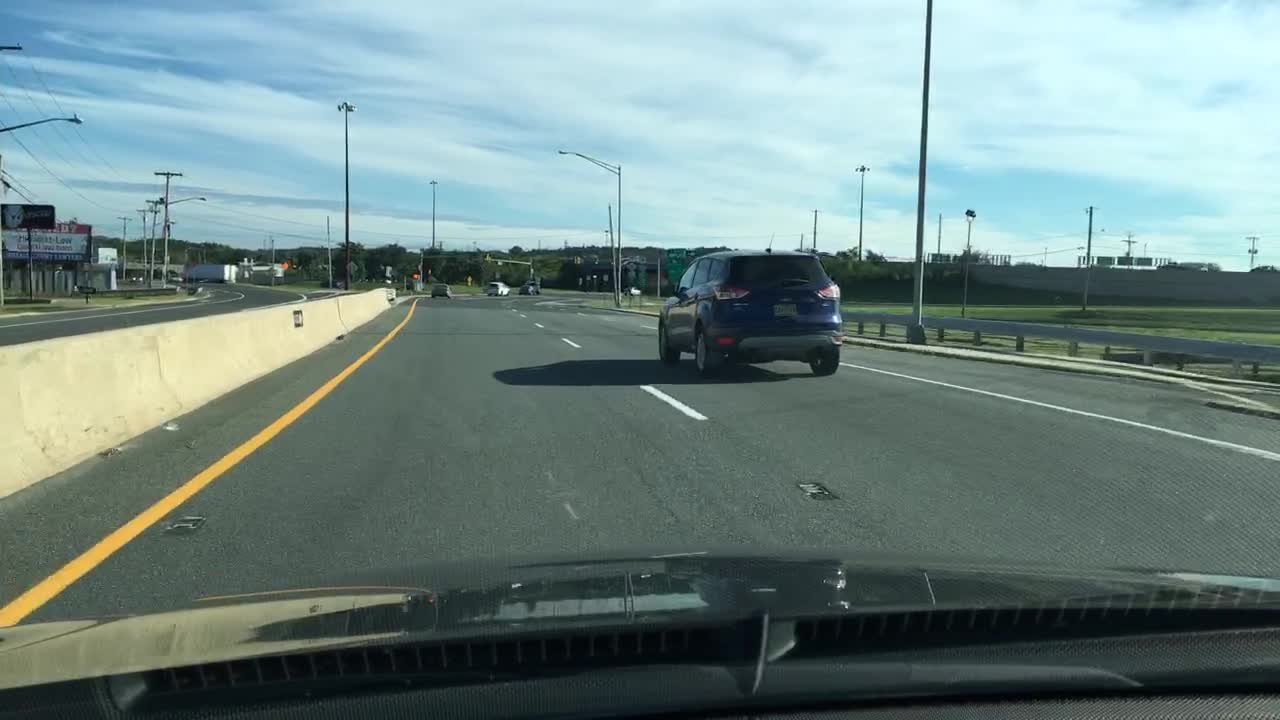car: (657, 248, 845, 378), (520, 280, 543, 296), (430, 283, 452, 299), (488, 280, 511, 294), (622, 286, 641, 299)
traffic sign: (669, 264, 683, 289), (666, 248, 686, 259), (343, 259, 356, 274), (279, 259, 290, 271)
truck: (179, 258, 238, 283)
